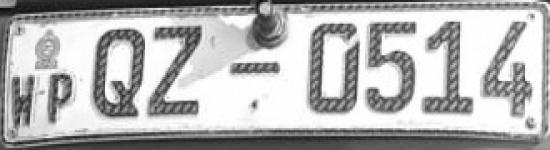-: (224, 56, 285, 80)
0: (305, 16, 363, 116)
1: (419, 16, 478, 120)
4: (478, 15, 536, 120)
5: (364, 17, 423, 120)
P: (42, 70, 77, 128)
Q: (87, 20, 146, 122)
W: (11, 68, 41, 132)
Z: (146, 22, 209, 122)
